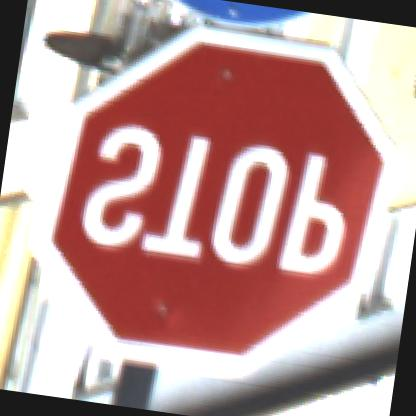stop: (21, 13, 414, 398)
